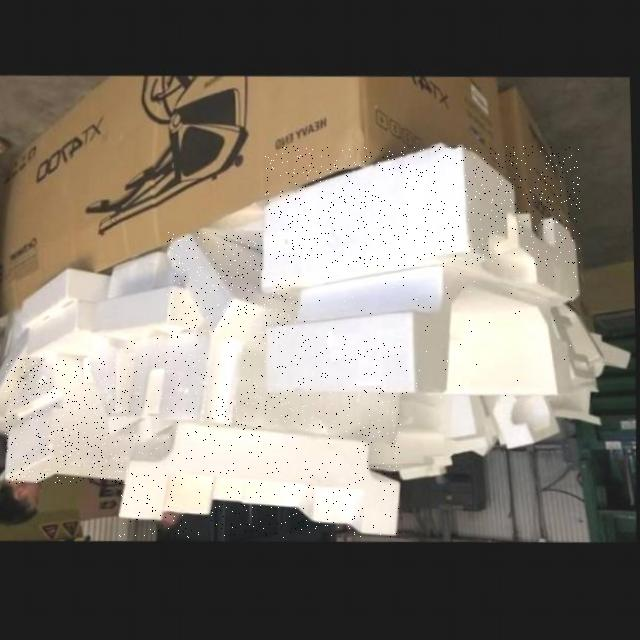styrofoam: (265, 146, 580, 302), (266, 267, 572, 397), (118, 425, 401, 538), (127, 335, 401, 446), (6, 358, 128, 484), (168, 232, 299, 342)
